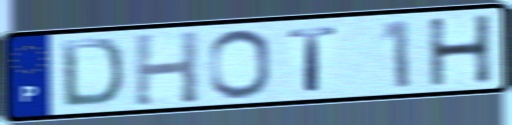1: (379, 17, 413, 91)
D: (58, 37, 127, 110)
H: (132, 28, 202, 108), (425, 12, 495, 89)
O: (207, 27, 274, 101)
T: (284, 24, 341, 94)
